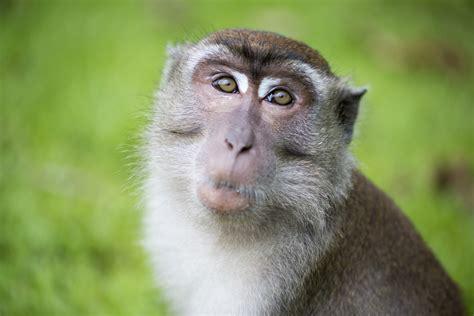monkey: (150, 31, 462, 316)
